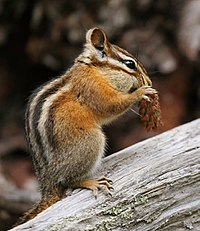Ardilla: (17, 27, 187, 147)
